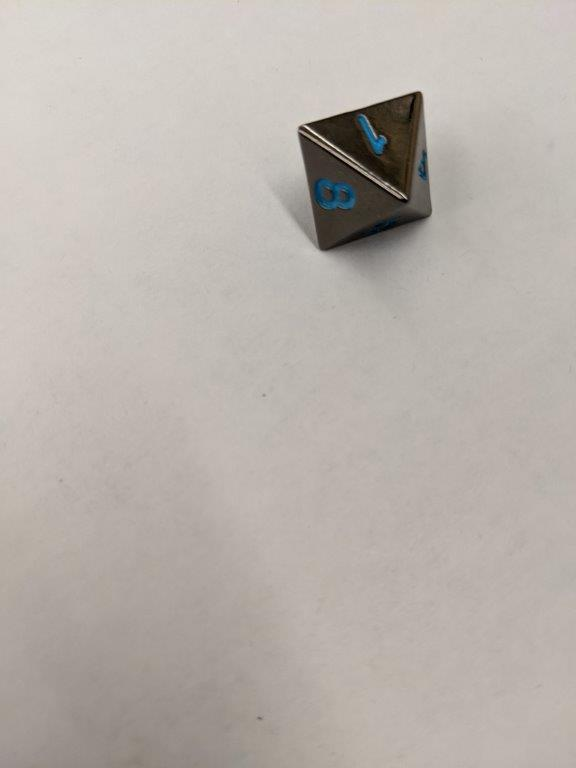d8-1: (295, 89, 436, 254)
